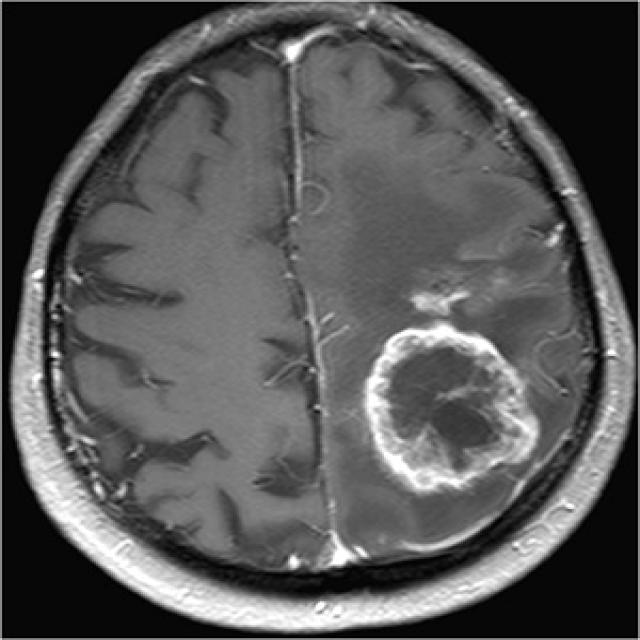tumor: (363, 319, 540, 491)
